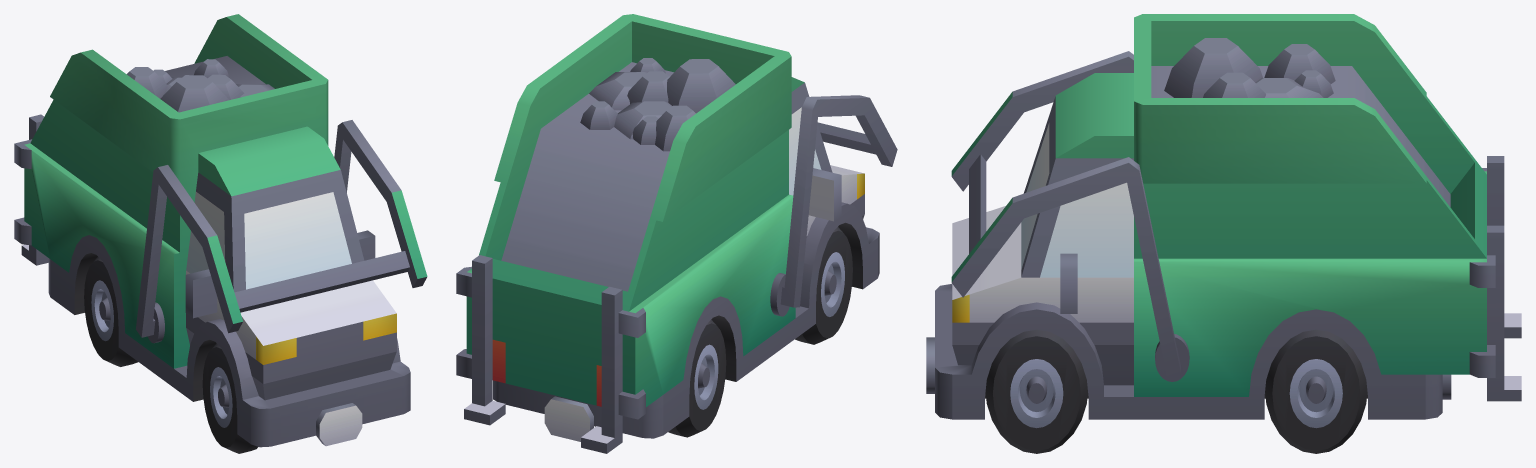
The model's file is truck_garbage.glb.
The picture shows the model from 3 angles, left to right: view 1: azimuth 30°, elevation 25°; view 2: azimuth 150°, elevation 25°; view 3: azimuth 270°, elevation 25°; orthographic projection. The views are drawn at different scales.
Parts seen in each view (by area): view 1: arm; view 2: arm; view 3: arm.
Part boxes in pixels (box(x1,y1,x2,y2)): arm: box(14, 14, 427, 453); arm: box(456, 14, 897, 453); arm: box(926, 14, 1521, 453).
Bounding box in the file's own units: 1.6 × 2.4 × 3.6.
Materials: 1 (1 with a texture image).
